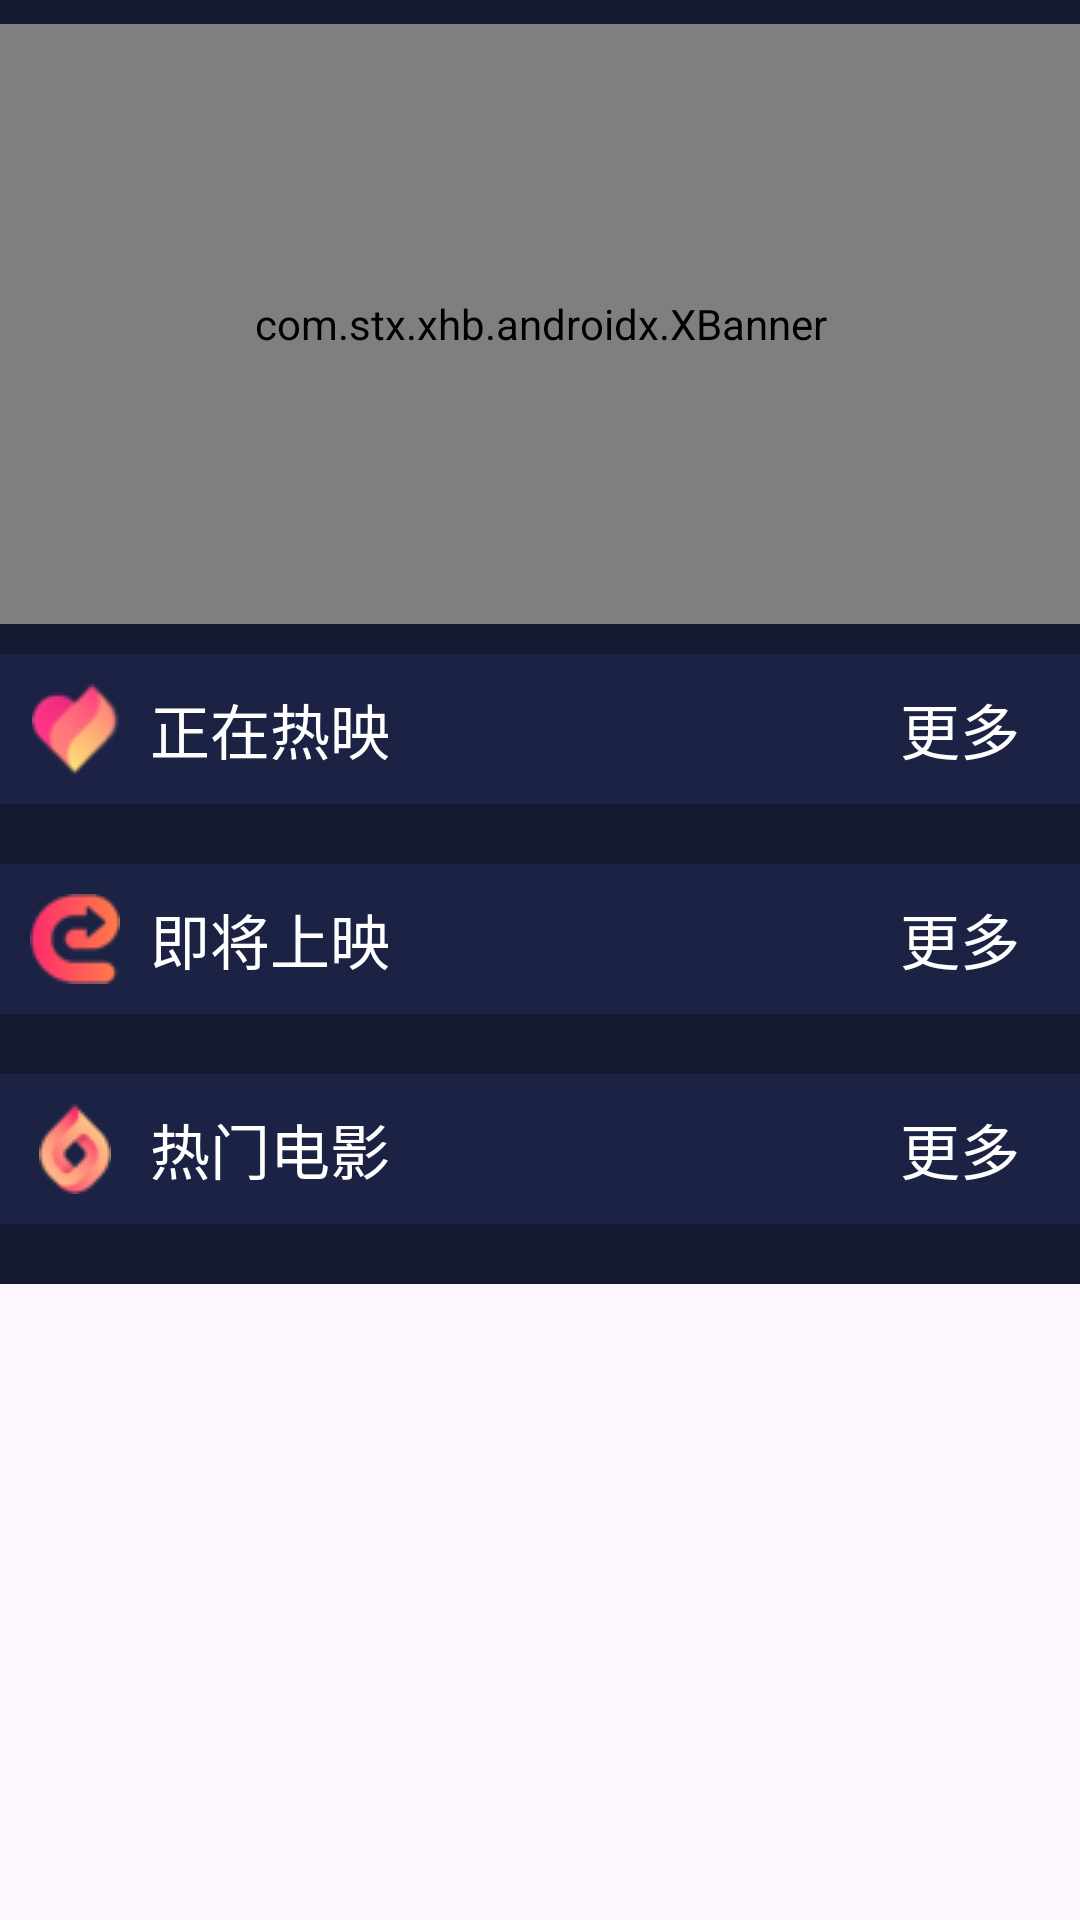

Icons on this 1080x1920 Android screen, each with its box as (x1, y1, x2, y2):
home hot: (32, 684, 119, 774)
home popular: (39, 1104, 111, 1194)
